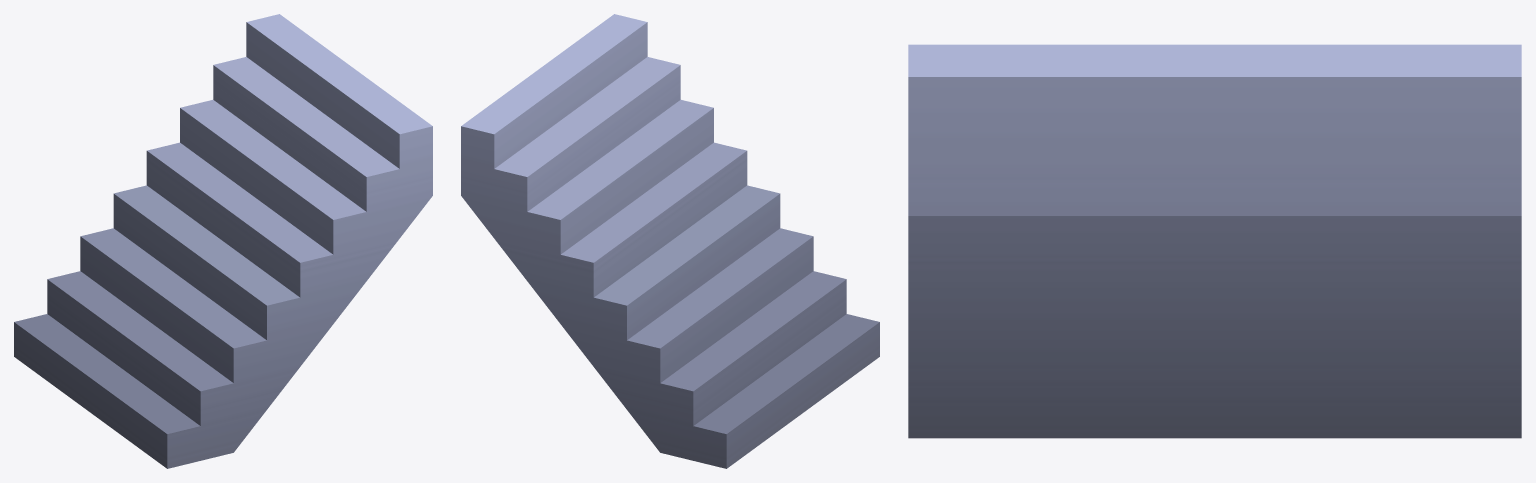
File: stairs-diagonal-small.fbx
3 views of the same model, side by side, from view 1: azimuth 30°, elevation 25°; view 2: azimuth 150°, elevation 25°; view 3: azimuth 270°, elevation 25° (orthographic). The views are drawn at different scales.
Parts seen in each view (by area): view 1: stairs-diagonal-small; view 2: stairs-diagonal-small; view 3: stairs-diagonal-small.
Boxes of the visible parts, bbox=[...] form: stairs-diagonal-small: bbox=[14, 14, 432, 468]; stairs-diagonal-small: bbox=[461, 14, 879, 468]; stairs-diagonal-small: bbox=[908, 44, 1521, 438].
Size of the model in its own units: 100 by 100 by 100.
